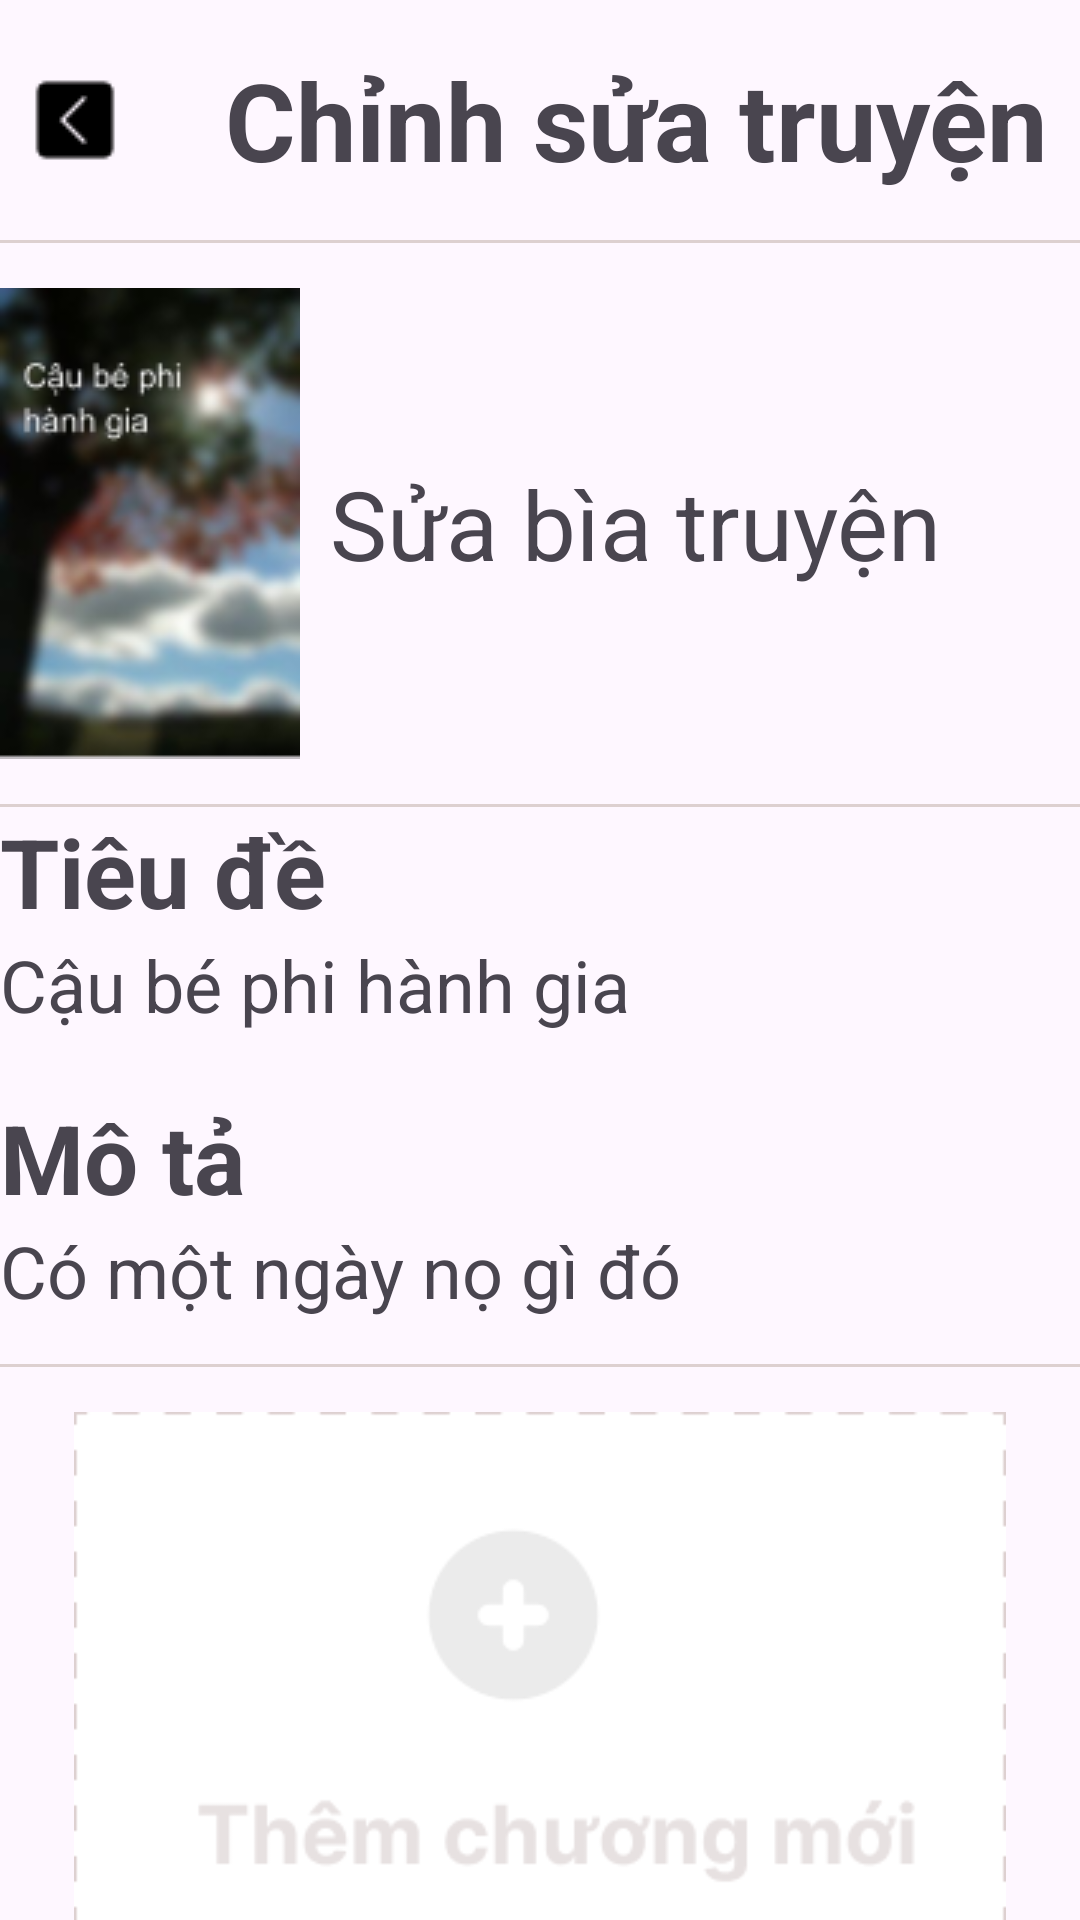

Icon bounding boxes for this 1080 × 1920 phone screenshot, format region(x1, y1, x2, y2):
prevblack: region(35, 80, 115, 160)
